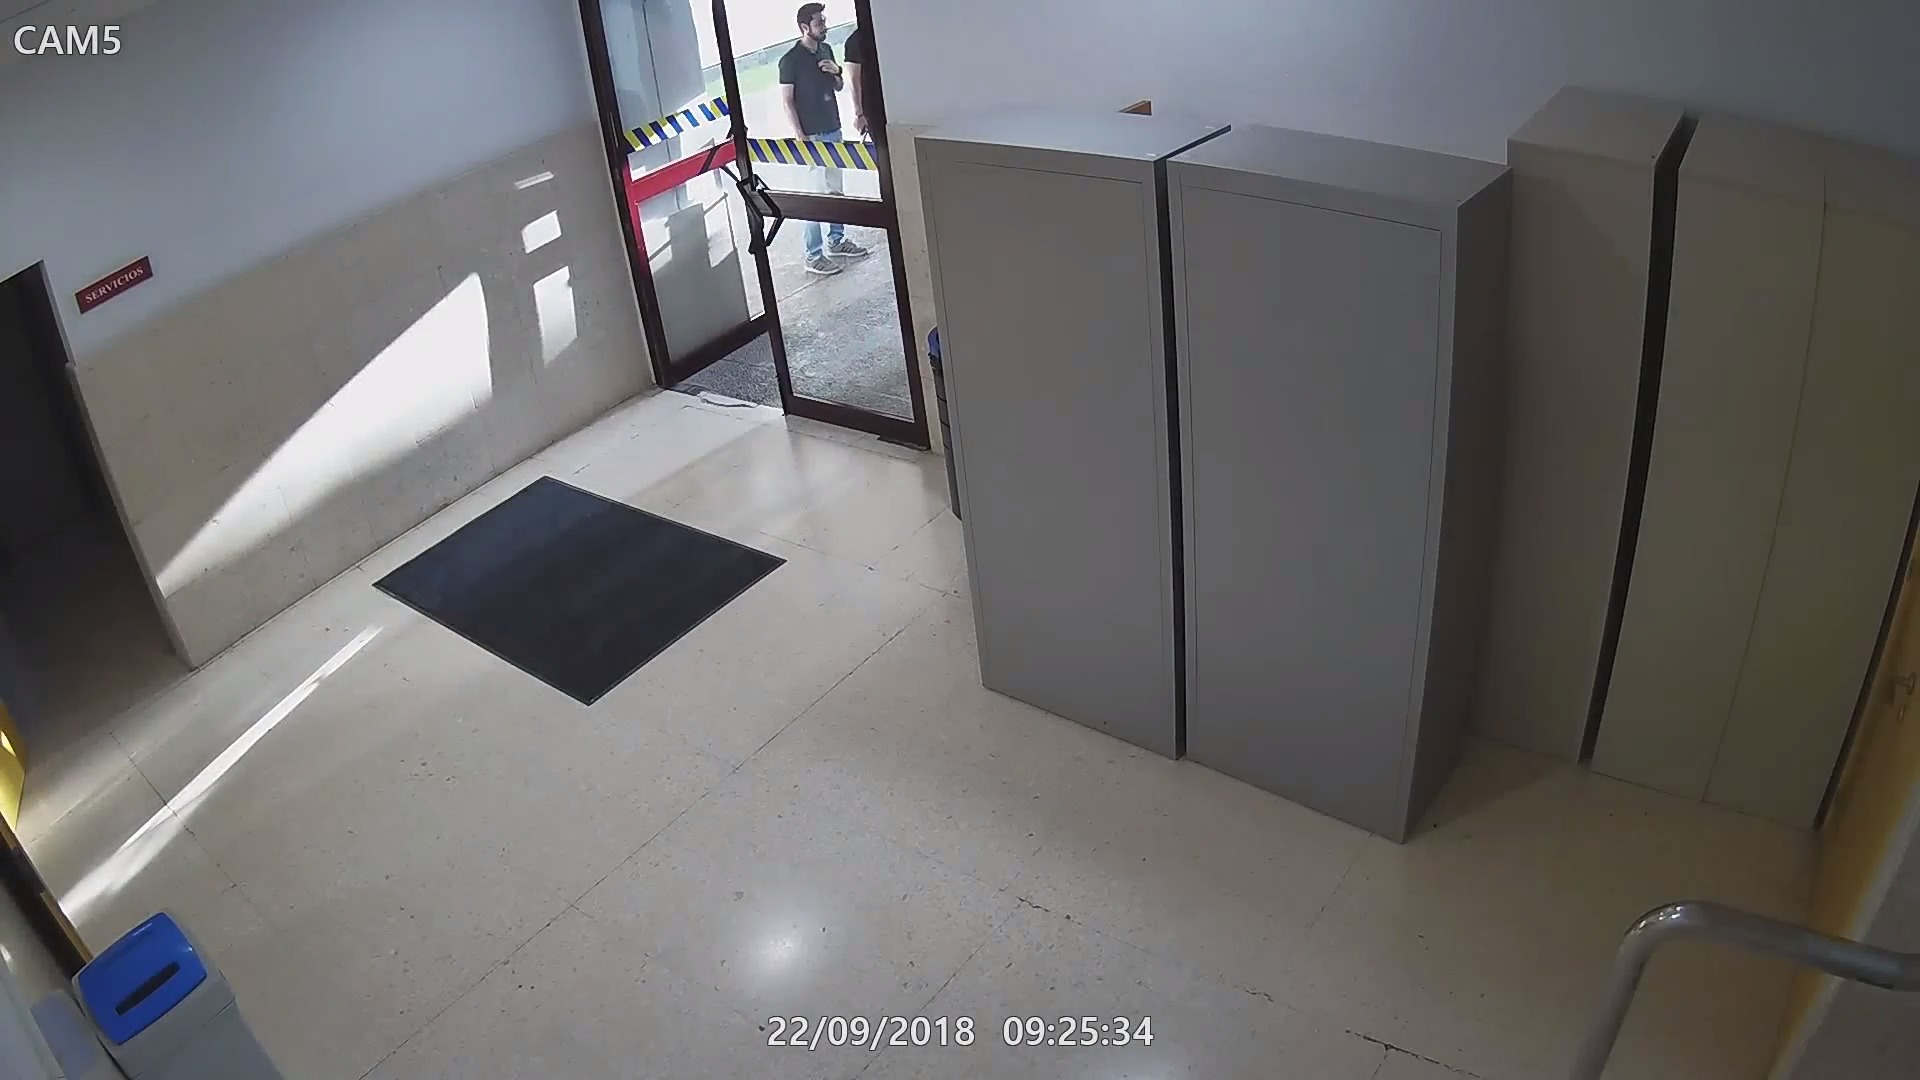Handgun: (851, 116, 876, 146)
